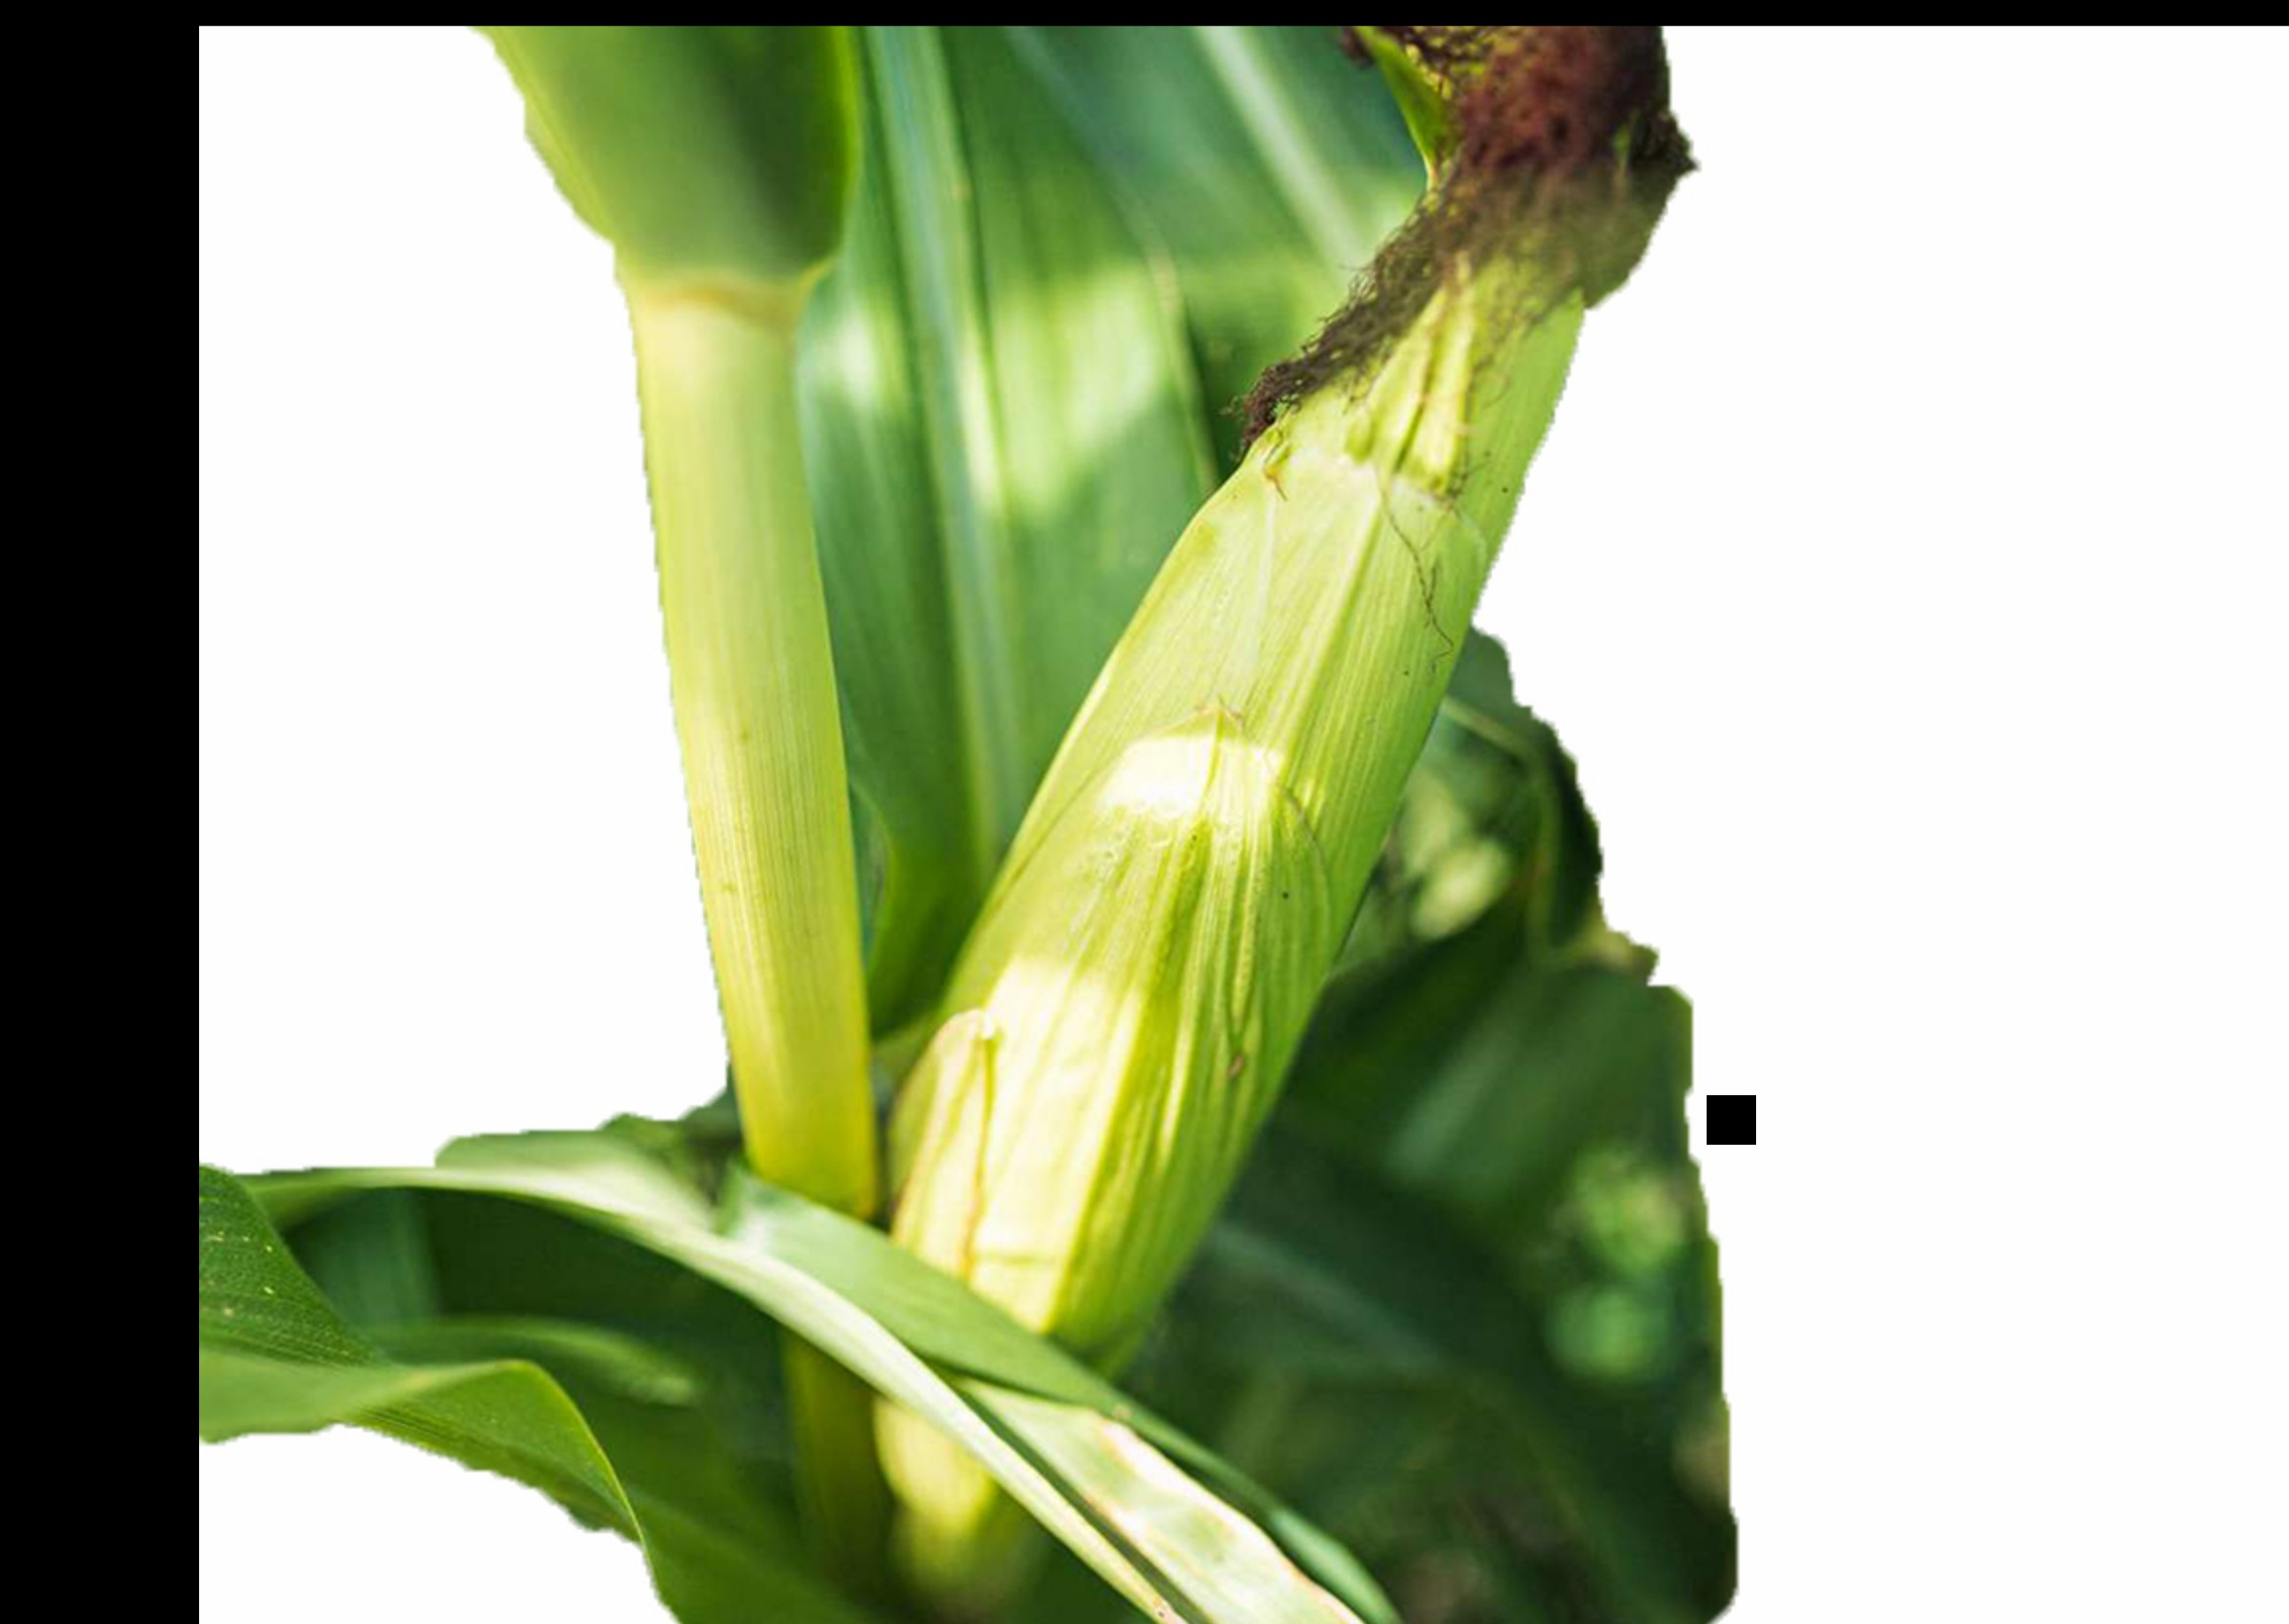corn_plant: (708, 49, 1654, 1568)
